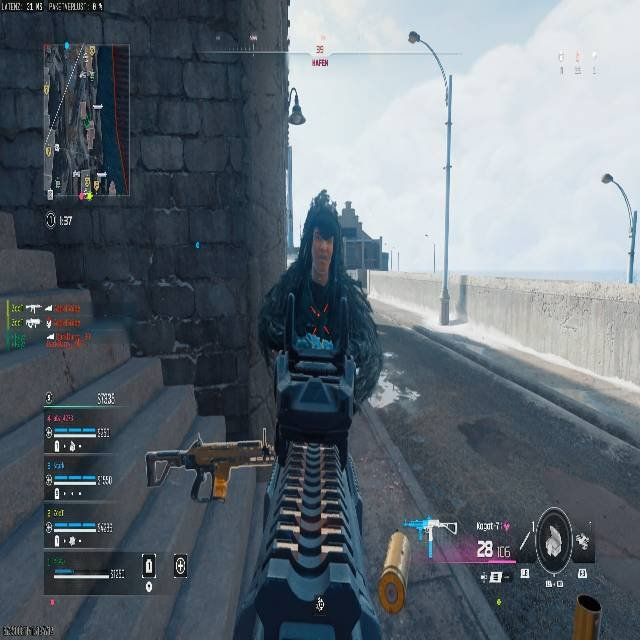player: (287, 81, 306, 154)
